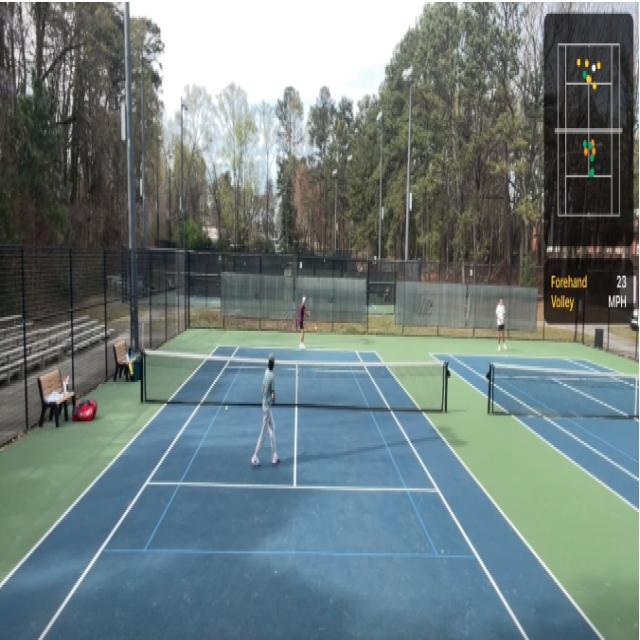ball: (225, 404, 229, 411), (315, 326, 317, 331)
